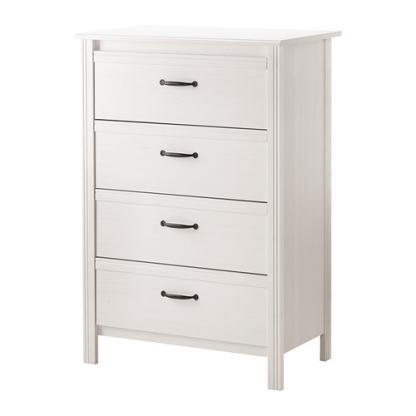Cabinet: (70, 20, 343, 395)
